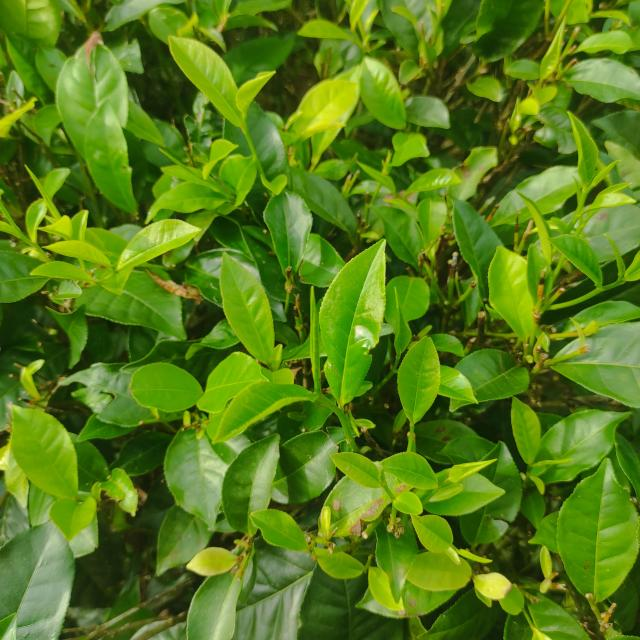unopened_leaf: (301, 279, 329, 400), (21, 159, 63, 221), (154, 139, 208, 182), (581, 153, 624, 196), (600, 230, 630, 281), (528, 451, 579, 475)
